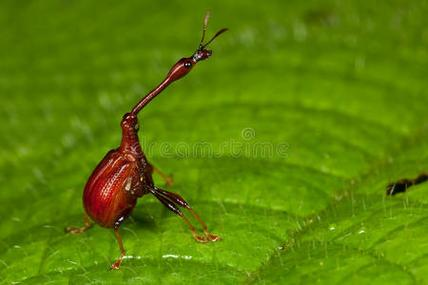Curculionidae: (64, 9, 231, 270)
